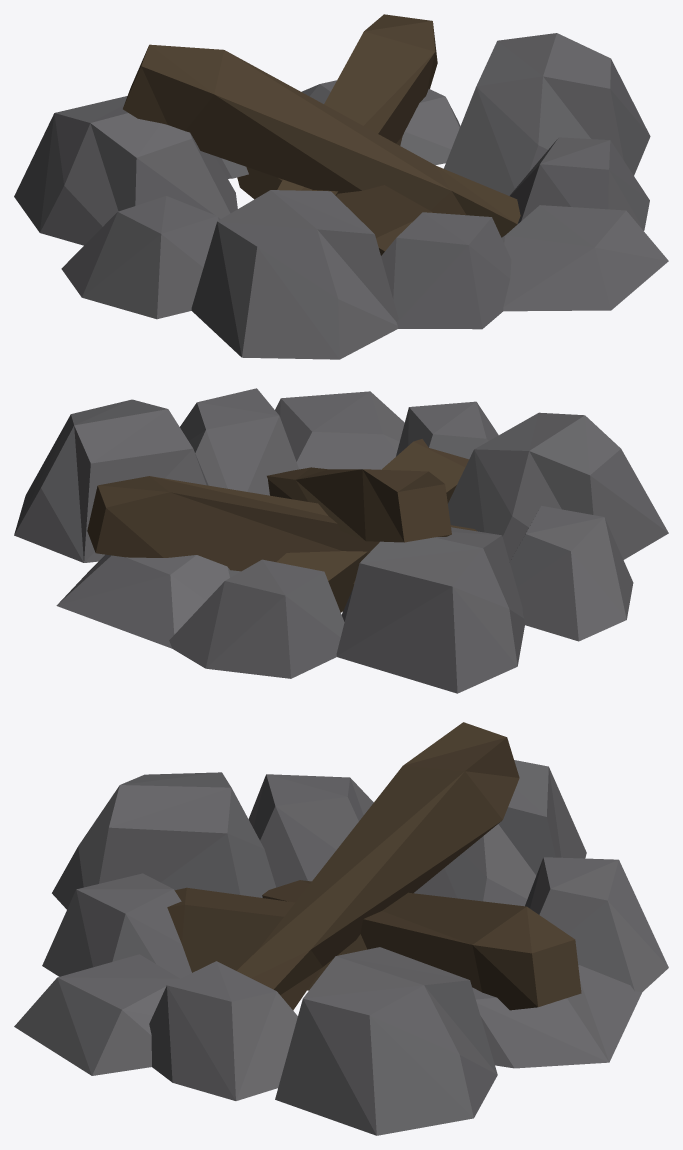
The model's file is SM_Prop_Campfire_01.glb.
3 renders of one model, top to bottom at view 1: azimuth 30°, elevation 25°; view 2: azimuth 150°, elevation 25°; view 3: azimuth 270°, elevation 25°, orthographic. The views are drawn at different scales.
Parts seen in each view (by area): view 1: SM_Prop_Campfire_01_part00; view 2: SM_Prop_Campfire_01_part00; view 3: SM_Prop_Campfire_01_part00.
Boxes of the visible parts, box(x1,y1,x2,y2) form: SM_Prop_Campfire_01_part00: box(14, 14, 668, 359); SM_Prop_Campfire_01_part00: box(14, 388, 668, 693); SM_Prop_Campfire_01_part00: box(14, 722, 668, 1135).
Size of the model in its own units: 0.9224 by 0.2735 by 0.8212.
Materials: 1 (1 with a texture image).
